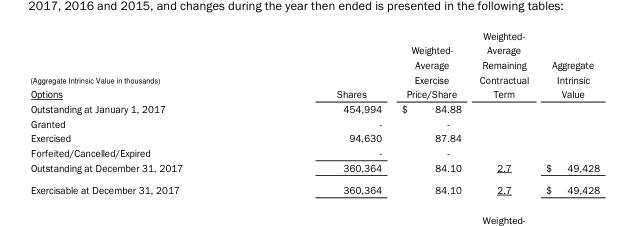table: (29, 29, 599, 195)
table column: (29, 29, 259, 195), (259, 29, 391, 195), (391, 29, 469, 195), (469, 29, 536, 195), (536, 29, 599, 195)
table column header: (29, 29, 599, 100)
table row: (29, 29, 599, 100), (29, 159, 599, 178), (29, 178, 599, 195), (29, 100, 599, 115), (29, 115, 599, 130), (29, 144, 599, 159), (29, 130, 599, 144)
